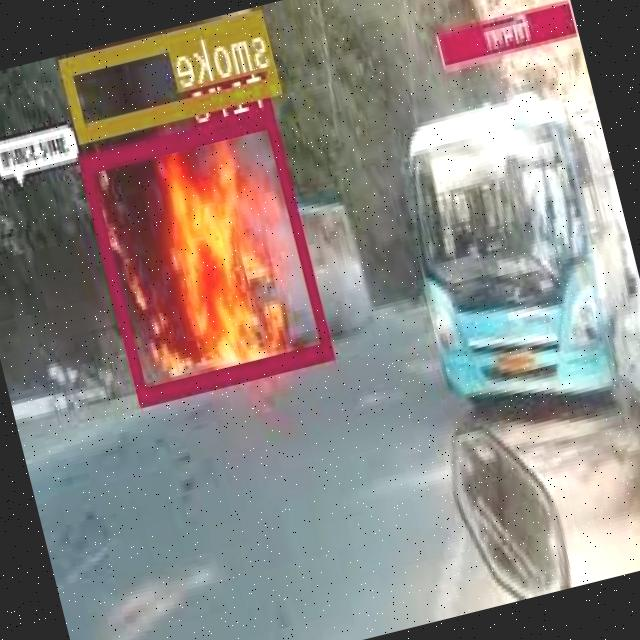fire: (80, 106, 336, 403)
smoke: (60, 6, 282, 140)
